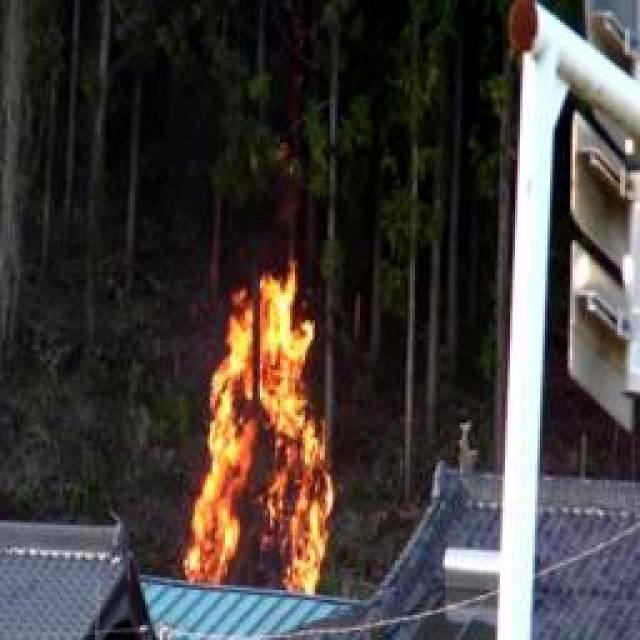fire: (182, 280, 334, 600)
